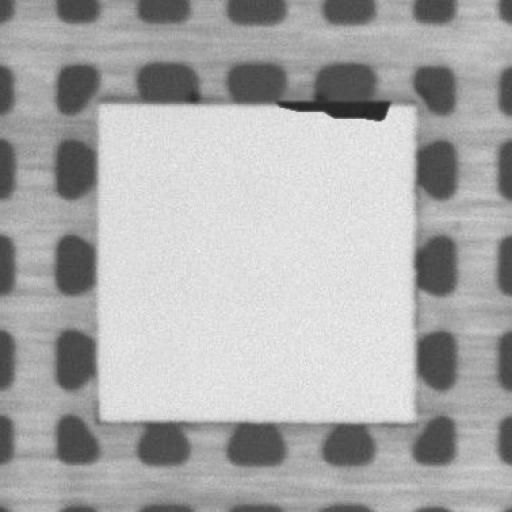DIE_BROKEN: (271, 96, 393, 120)
